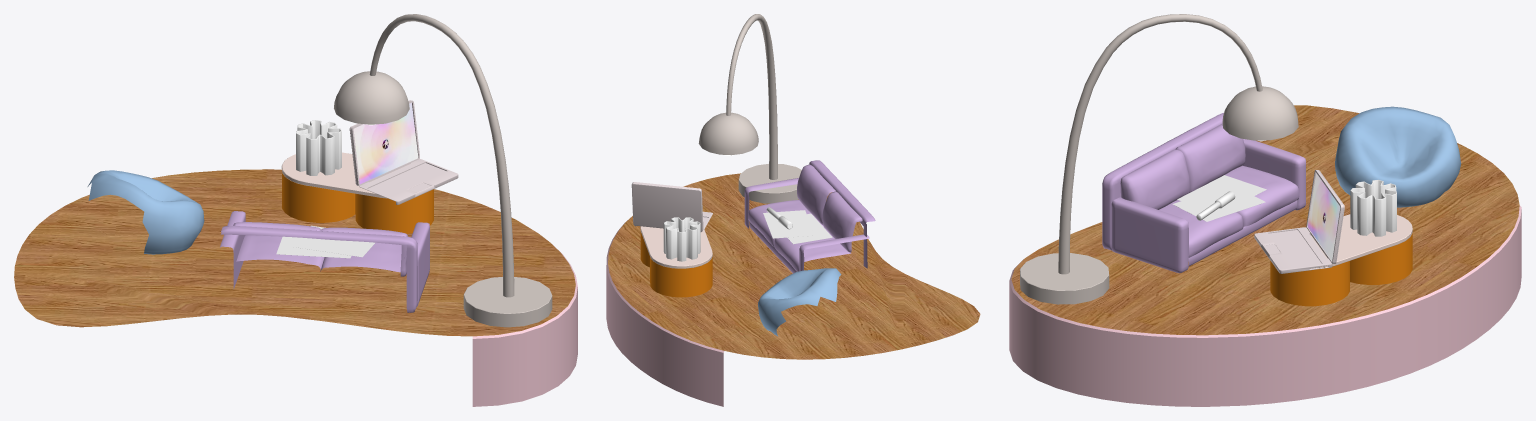
The model's file is lounge-transformed.glb.
3 renders of one model, left to right at view 1: azimuth 30°, elevation 25°; view 2: azimuth 150°, elevation 25°; view 3: azimuth 270°, elevation 25°, orthographic. The views are drawn at different scales.
Parts seen in each view (by area): view 1: loungeFloor, lougeLampStructure, loungeCouch, loungeBase, loungeFootstool, loungeTableFeet, loungeLaptopScreen, loungeVase, loungeLaptopMetal, loungeTableTop, loungePaper, loungeLaptopCover; view 2: loungeFloor, loungeBase, loungeCouch, lougeLampStructure, loungeFootstool, loungeLaptopCover, loungeTableFeet, loungeVase, loungePaper, loungeTableTop; view 3: loungeBase, loungeFloor, loungeCouch, lougeLampStructure, loungeFootstool, loungeTableFeet, loungeLaptopMetal, loungeVase, loungePaper, loungeTableTop, loungeLaptopScreen, loungeLaptopCover.
Part boxes in pixels (x1,y1,x2,y2): loungeFloor: [14, 169, 575, 336]; lougeLampStructure: [334, 14, 552, 327]; loungeCouch: [220, 211, 429, 312]; loungeBase: [472, 244, 577, 406]; loungeFootstool: [87, 170, 204, 254]; loungeTableFeet: [282, 172, 433, 233]; loungeLaptopScreen: [353, 102, 418, 184]; loungeVase: [296, 120, 341, 175]; loungeLaptopMetal: [359, 159, 458, 204]; loungeTableTop: [281, 152, 409, 198]; loungePaper: [276, 225, 375, 258]; loungeLaptopCover: [349, 100, 419, 185]; loungeFloor: [608, 173, 980, 359]; loungeBase: [606, 217, 724, 406]; loungeCouch: [744, 160, 875, 273]; lougeLampStructure: [698, 14, 801, 203]; loungeFootstool: [758, 268, 841, 336]; loungeLaptopCover: [631, 182, 703, 231]; loungeTableFeet: [640, 232, 712, 297]; loungeVase: [663, 217, 700, 261]; loungePaper: [763, 210, 832, 244]; loungeTableTop: [640, 226, 712, 268]; loungeBase: [1009, 205, 1521, 406]; loungeFloor: [1011, 105, 1519, 335]; loungeCouch: [1102, 113, 1305, 273]; lougeLampStructure: [1020, 14, 1298, 304]; loungeFootstool: [1335, 106, 1461, 207]; loungeTableFeet: [1270, 233, 1412, 306]; loungeLaptopMetal: [1254, 227, 1332, 273]; loungeVase: [1350, 179, 1396, 236]; loungePaper: [1172, 175, 1266, 221]; loungeTableTop: [1310, 214, 1412, 268]; loungeLaptopScreen: [1307, 173, 1340, 260]; loungeLaptopCover: [1306, 170, 1344, 263].
Bounding box in the file's own units: 91.31 × 61.05 × 85.61.
Materials: 13 (2 with a texture image).
